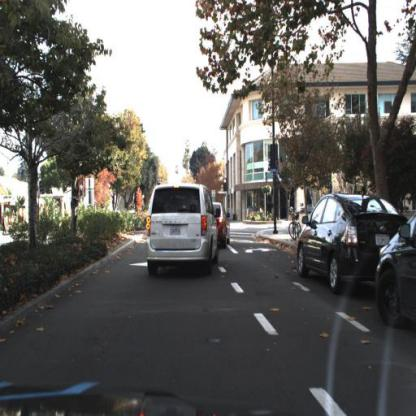car: (296, 185, 408, 291), (143, 182, 222, 277), (211, 201, 232, 250), (295, 199, 321, 222)
trafficLight-Red: (223, 178, 229, 194), (157, 179, 162, 187)
